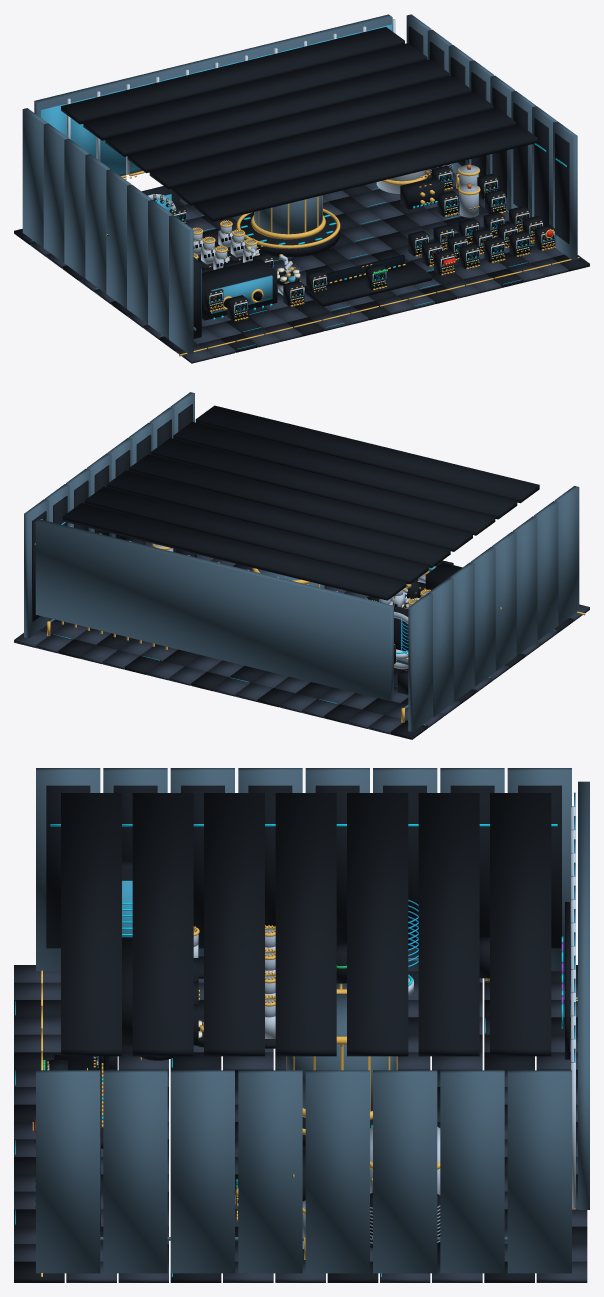
The model's file is Level93_Complete_ArtKit_Showcase.fbx.
The picture shows the model from 3 angles, top to bottom: view 1: azimuth 30°, elevation 25°; view 2: azimuth 150°, elevation 25°; view 3: azimuth 270°, elevation 25°; orthographic projection. The views are drawn at different scales.
Parts seen in each view (by area): view 1: L92_CeilingLabLightingArray_Part_0000, L92_TitaniumWallModuleLeft_Part_0000, L92_TitaniumWallModuleRight_Part_0001, L92_TitaniumWallModuleRight_Part_0000, L92_Aurora1ScienceLaboratoryDeck_Part_0011, L92_PanoramicObservationWindow_Part_0000, L92_Aurora1ScienceLaboratoryDeck_Part_0002, L92_Aurora1ScienceLaboratoryDeck_Part_0012, L92_Aurora1ScienceLaboratoryDeck_Part_0001, L92_Aurora1ScienceLaboratoryDeck_Part_0009, L92_PanoramicObservationWindow_Part_0001, L92_ScienceMissionControlDesk_Part_0000 (+17 smaller); view 2: L92_CeilingLabLightingArray_Part_0000, L92_PanoramicObservationWindow_Part_0000, L92_TitaniumWallModuleLeft_Part_0000, L92_TitaniumWallModuleRight_Part_0000, L92_TitaniumWallModuleRight_Part_0001, L92_Aurora1ScienceLaboratoryDeck_Part_0007, L92_Aurora1ScienceLaboratoryDeck_Part_0000, L92_Aurora1ScienceLaboratoryDeck_Part_0012, L92_Aurora1ScienceLaboratoryDeck_Part_0002, L92_Aurora1ScienceLaboratoryDeck_Part_0008, L92_Aurora1ScienceLaboratoryDeck_Part_0009, L92_Aurora1ScienceLaboratoryDeck_Part_0011 (+4 smaller); view 3: L92_CeilingLabLightingArray_Part_0000, L92_TitaniumWallModuleRight_Part_0000, L92_TitaniumWallModuleLeft_Part_0001, L92_TitaniumWallModuleLeft_Part_0000, L92_PanoramicObservationWindow_Part_0000, L92_Aurora1ScienceLaboratoryDeck_Part_0013, L92_Aurora1ScienceLaboratoryDeck_Part_0008, L92_Aurora1ScienceLaboratoryDeck_Part_0009, L92_Aurora1ScienceLaboratoryDeck_Part_0000, L92_Aurora1ScienceLaboratoryDeck_Part_0007, L92_Aurora1ScienceLaboratoryDeck_Part_0003, L92_Aurora1ScienceLaboratoryDeck_Part_0001 (+9 smaller).
Boxes of the visible parts, <box> form: L92_CeilingLabLightingArray_Part_0000: <box>61,27,537,221</box>; L92_TitaniumWallModuleLeft_Part_0000: <box>22,108,193,354</box>; L92_TitaniumWallModuleRight_Part_0001: <box>408,26,569,243</box>; L92_TitaniumWallModuleRight_Part_0000: <box>406,14,577,260</box>; L92_Aurora1ScienceLaboratoryDeck_Part_0011: <box>323,190,479,309</box>; L92_PanoramicObservationWindow_Part_0000: <box>34,14,392,175</box>; L92_Aurora1ScienceLaboratoryDeck_Part_0002: <box>328,175,529,303</box>; L92_Aurora1ScienceLaboratoryDeck_Part_0012: <box>364,176,545,293</box>; L92_Aurora1ScienceLaboratoryDeck_Part_0001: <box>179,201,396,336</box>; L92_Aurora1ScienceLaboratoryDeck_Part_0009: <box>179,198,368,330</box>; L92_PanoramicObservationWindow_Part_0001: <box>40,24,391,174</box>; L92_ScienceMissionControlDesk_Part_0000: <box>304,261,432,306</box>; L92_CeilingLabLightingArray_Part_0000: <box>62,405,539,600</box>; L92_PanoramicObservationWindow_Part_0000: <box>35,519,393,700</box>; L92_TitaniumWallModuleLeft_Part_0000: <box>408,486,579,732</box>; L92_TitaniumWallModuleRight_Part_0000: <box>24,392,194,638</box>; L92_TitaniumWallModuleRight_Part_0001: <box>32,404,192,621</box>; L92_Aurora1ScienceLaboratoryDeck_Part_0007: <box>346,604,589,734</box>; L92_Aurora1ScienceLaboratoryDeck_Part_0000: <box>296,618,573,739</box>; L92_Aurora1ScienceLaboratoryDeck_Part_0012: <box>36,554,235,663</box>; L92_Aurora1ScienceLaboratoryDeck_Part_0002: <box>58,564,252,674</box>; L92_Aurora1ScienceLaboratoryDeck_Part_0008: <box>280,687,377,718</box>; L92_Aurora1ScienceLaboratoryDeck_Part_0009: <box>213,597,420,701</box>; L92_Aurora1ScienceLaboratoryDeck_Part_0011: <box>102,638,183,680</box>; L92_CeilingLabLightingArray_Part_0000: <box>61,793,551,1056</box>; L92_TitaniumWallModuleRight_Part_0000: <box>36,1070,571,1273</box>; L92_TitaniumWallModuleLeft_Part_0001: <box>46,785,561,948</box>; L92_TitaniumWallModuleLeft_Part_0000: <box>36,768,571,971</box>; L92_PanoramicObservationWindow_Part_0000: <box>578,781,589,1209</box>; L92_Aurora1ScienceLaboratoryDeck_Part_0013: <box>14,1244,587,1282</box>; L92_Aurora1ScienceLaboratoryDeck_Part_0008: <box>14,1017,577,1069</box>; L92_Aurora1ScienceLaboratoryDeck_Part_0009: <box>14,1052,577,1121</box>; L92_Aurora1ScienceLaboratoryDeck_Part_0000: <box>14,965,577,1069</box>; L92_Aurora1ScienceLaboratoryDeck_Part_0007: <box>14,965,577,1017</box>; L92_Aurora1ScienceLaboratoryDeck_Part_0003: <box>14,1244,534,1282</box>; L92_Aurora1ScienceLaboratoryDeck_Part_0001: <box>14,1052,577,1156</box>.
Size of the model in its own units: 2721 by 821 by 2094.
